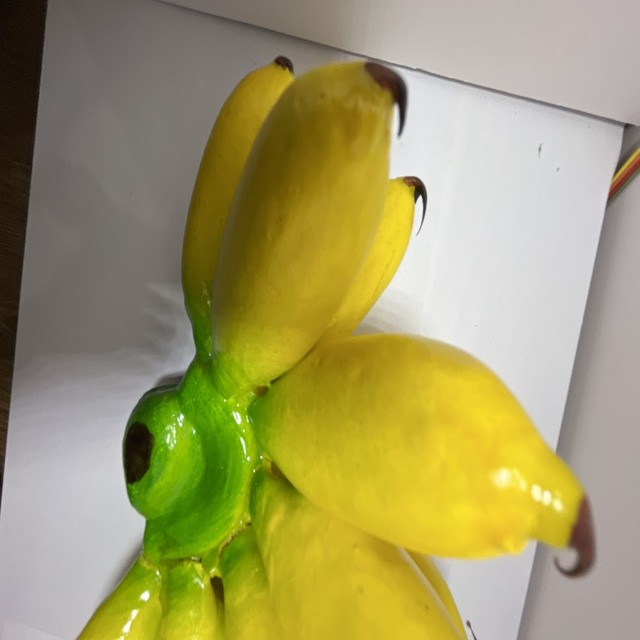Chuoi: (63, 50, 601, 640)
